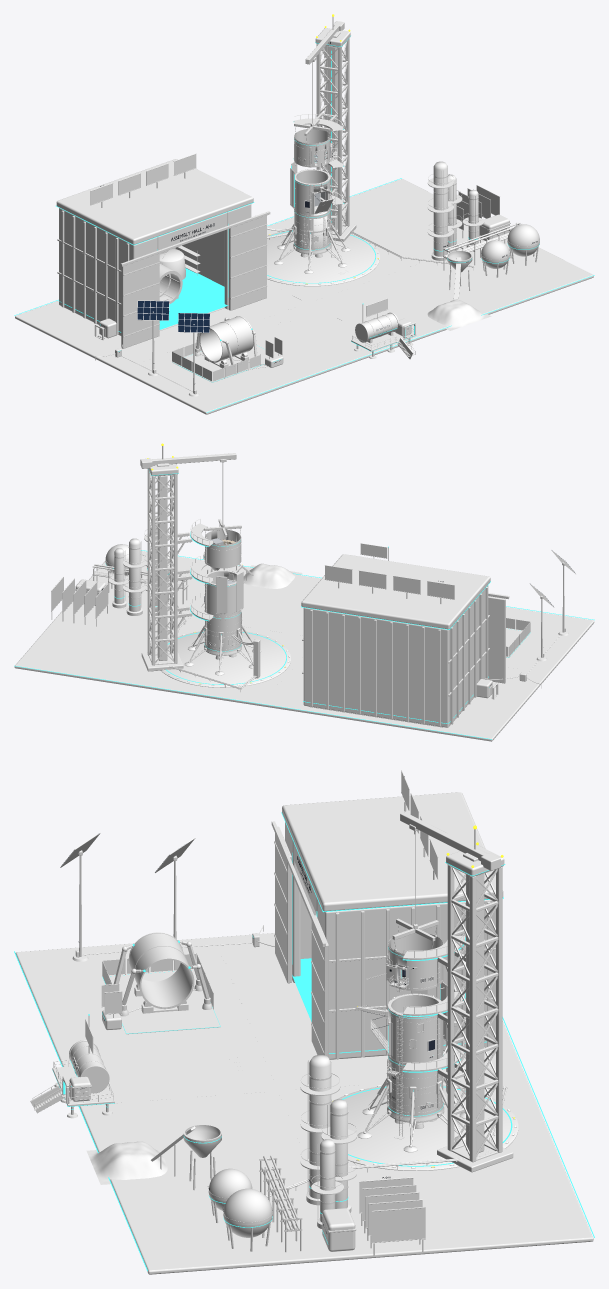
The model's file is shipyard_master.glb.
3 renders of one model, top to bottom at view 1: azimuth 30°, elevation 25°; view 2: azimuth 150°, elevation 25°; view 3: azimuth 270°, elevation 25°, orthographic. The views are drawn at different scales.
Visible parts, largest first — view 1: yard_slab, ah_roof, ah_wall_side, is_pad, ah_door_leaf.001, ah_door_leaf, ah_base_strip, wb_barrel, ah_wall_side.001, ss_Hull, rf_column, ist_core (+12 smaller); view 2: yard_slab, ah_wall_back, ah_roof, is_pad, ah_wall_side, ist_core, ah_door_leaf, rf_feed_pile, ss_Hull, ist_column.001, rf_column.001, ist_column.003 (+14 smaller); view 3: yard_slab, ah_roof, ah_wall_side.001, is_pad, ss_Hull, wb_barrel, wb_apron, ist_core, rf_feed_pile, ist_column, rf_column, ah_door_leaf.001 (+21 smaller).
Boxes of the visible parts, x1,y1,x2,y2 form: yard_slab: [15, 179, 593, 414]; ah_roof: [56, 159, 253, 244]; ah_wall_side: [59, 209, 136, 335]; is_pad: [267, 230, 379, 286]; ah_door_leaf.001: [228, 215, 266, 310]; ah_door_leaf: [121, 253, 159, 348]; ah_base_strip: [58, 268, 228, 332]; wb_barrel: [199, 316, 253, 362]; ah_wall_side.001: [175, 204, 250, 286]; ss_Hull: [294, 170, 330, 247]; rf_column: [431, 161, 448, 260]; ist_core: [327, 46, 337, 230]; yard_slab: [14, 551, 594, 741]; ah_wall_back: [303, 607, 449, 727]; ah_roof: [301, 554, 490, 629]; is_pad: [161, 631, 290, 687]; ah_wall_side: [444, 586, 487, 726]; ist_core: [157, 475, 167, 660]; ah_door_leaf: [488, 596, 505, 683]; rf_feed_pile: [243, 563, 302, 588]; ss_Hull: [205, 572, 241, 649]; ist_column.001: [151, 476, 155, 665]; rf_column.001: [126, 538, 142, 615]; ist_column.003: [174, 474, 177, 663]; yard_slab: [15, 933, 593, 1274]; ah_roof: [282, 792, 503, 911]; ah_wall_side.001: [324, 899, 494, 1059]; is_pad: [331, 1085, 518, 1170]; ss_Hull: [388, 994, 442, 1112]; wb_barrel: [129, 933, 193, 1008]; wb_apron: [105, 970, 220, 1034]; ist_core: [466, 874, 484, 1152]; rf_feed_pile: [86, 1141, 167, 1184]; ist_column: [469, 876, 476, 1162]; rf_column: [306, 1055, 331, 1205]; ah_door_leaf.001: [311, 915, 328, 1057].
Size of the model in its own units: 122 by 54.32 by 84.76.
